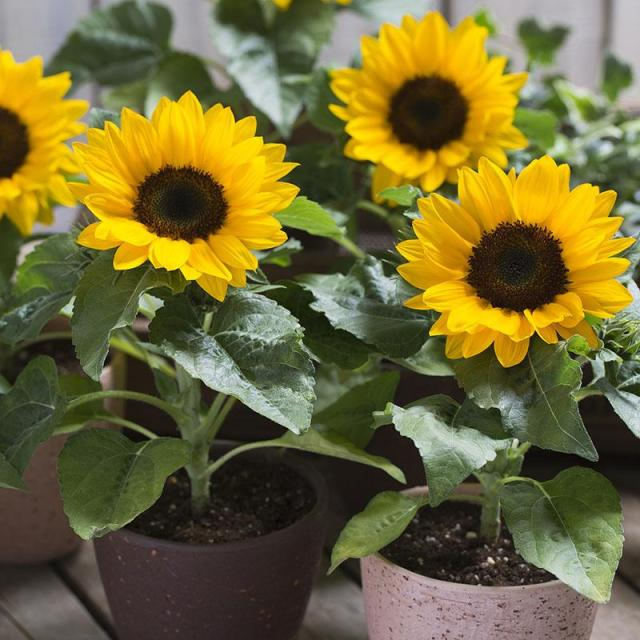sunflower: (389, 134, 628, 382), (66, 80, 318, 303), (319, 7, 522, 190), (0, 44, 88, 240)
